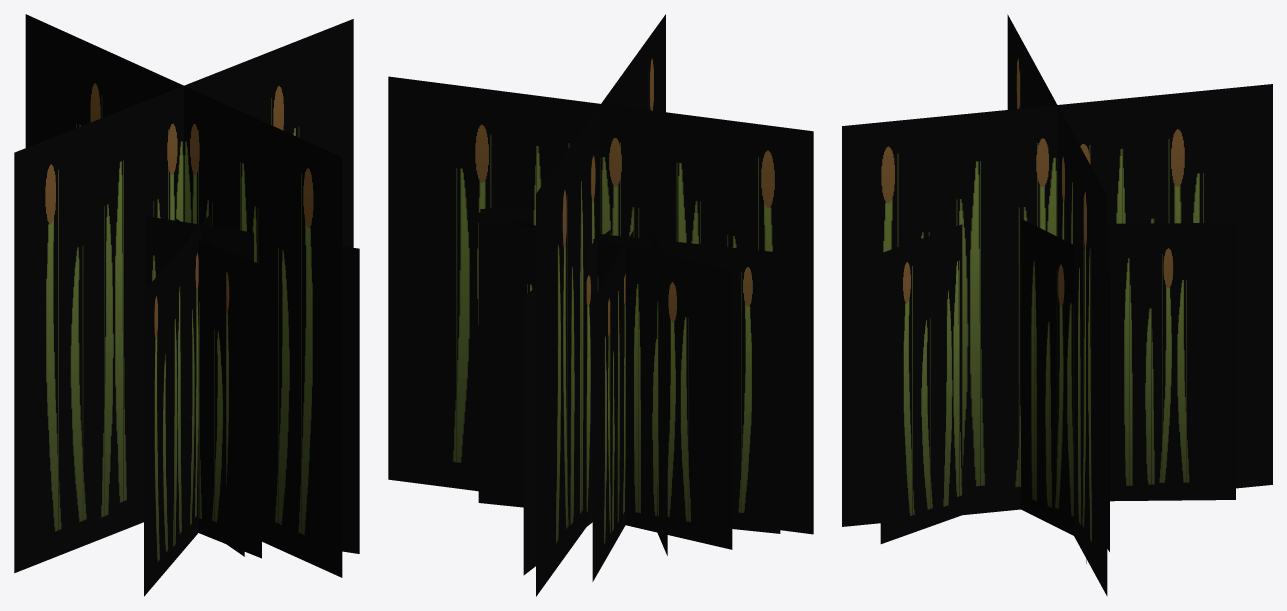
Rendered from prop_reeds.glb.
3 renders of one model, left to right at view 1: azimuth 30°, elevation 25°; view 2: azimuth 150°, elevation 25°; view 3: azimuth 270°, elevation 25°, orthographic. The views are drawn at different scales.
Visible parts, largest first — view 1: reed_0, reed_3, reed_2, reed_1; view 2: reed_0, reed_2, reed_1, reed_3; view 3: reed_0, reed_3, reed_1, reed_2.
Part boxes in pixels (box(x1,y1,x2,y2)): reed_0: box(14, 14, 353, 577); reed_3: box(144, 213, 359, 596); reed_2: box(185, 234, 261, 558); reed_1: box(176, 219, 244, 556); reed_0: box(388, 14, 813, 596); reed_2: box(478, 221, 780, 581); reed_1: box(478, 212, 732, 575); reed_3: box(480, 205, 667, 555); reed_0: box(842, 14, 1272, 596); reed_3: box(880, 218, 1073, 543); reed_1: box(1086, 222, 1235, 563); reed_2: box(1107, 269, 1109, 551).
Size of the model in its own units: 1.03 by 1.06 by 1.03.
1 material, 1 textured.
